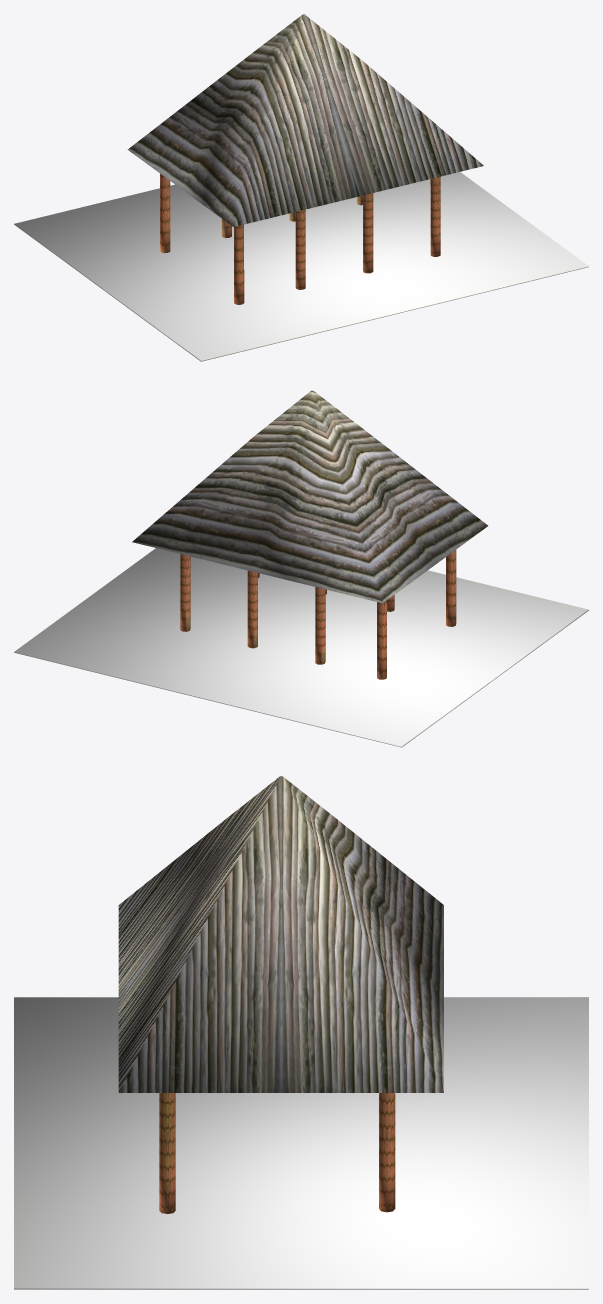
File: house.obj
3 renders of one model, top to bottom at view 1: azimuth 30°, elevation 25°; view 2: azimuth 150°, elevation 25°; view 3: azimuth 270°, elevation 25°, orthographic. The views are drawn at different scales.
Visible parts, largest first — view 1: boden, dach, saeulen; view 2: boden, dach, saeulen; view 3: boden, dach, saeulen.
Part boxes in pixels (x1=…): boden: x1=14, y1=172, x2=588, y2=361; dach: x1=127, y1=14, x2=483, y2=226; saeulen: x1=160, y1=173, x2=440, y2=304; boden: x1=14, y1=548, x2=588, y2=747; dach: x1=132, y1=390, x2=487, y2=603; saeulen: x1=180, y1=550, x2=456, y2=679; boden: x1=14, y1=997, x2=588, y2=1289; dach: x1=118, y1=776, x2=443, y2=1092; saeulen: x1=159, y1=1093, x2=395, y2=1213.
Bounding box in the file's own units: 728 × 432 × 608.
